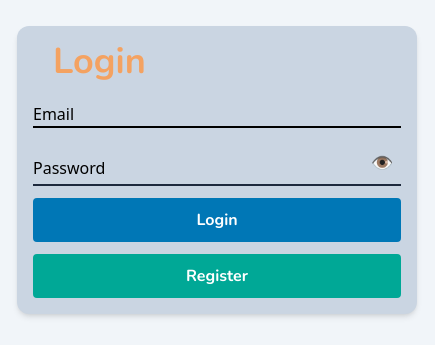
Test: Login Page tests › should validate email format
Type "invalid-email" into the field labelled "Email".
click(217, 115); type("invalid-email")  # box [33,102,401,128]
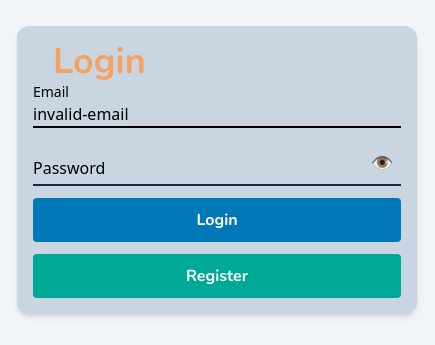
Click the button "Login".
click(217, 220)  # box [33,198,401,242]
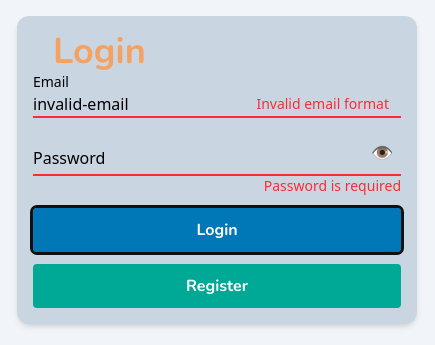
Expected: the text "Invalid email format" is shown, [256,94,389,114]
